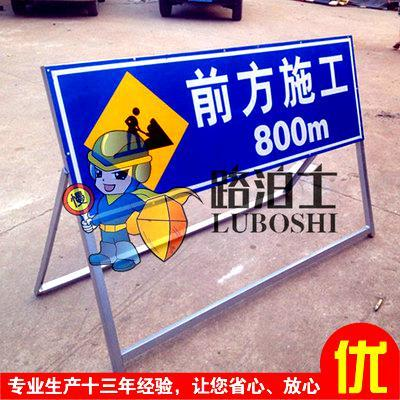sign: (55, 43, 356, 201)
